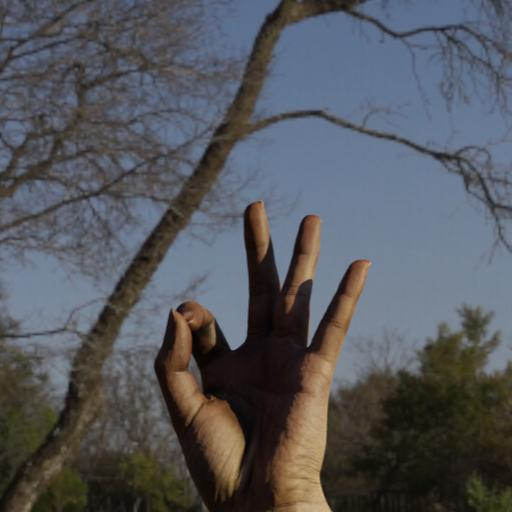F: (138, 193, 381, 512)
